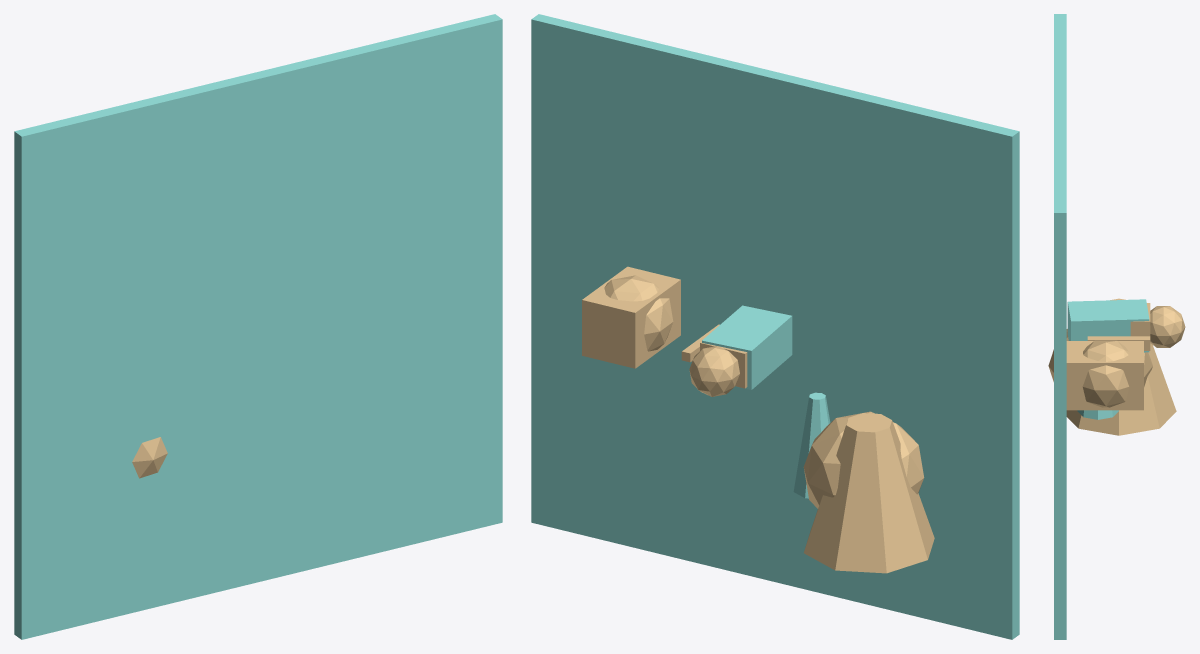
Rendered from wildlands-expedition-kit.glb.
The picture shows the model from 3 angles, left to right: view 1: azimuth 30°, elevation 25°; view 2: azimuth 150°, elevation 25°; view 3: azimuth 270°, elevation 25°; orthographic projection. The views are drawn at different scales.
Parts seen in each view (by area): view 1: ENVIRONMENT_GROUND, PROFILE_ENVIRONMENT_DETAIL; view 2: ENVIRONMENT_GROUND, ENVIRONMENT_LANDMARK, PROFILE_OBSTACLE_DETAIL, PLAYER_BODY, PROFILE_ENVIRONMENT_DETAIL, OBSTACLE, PLAYER_HEAD, PROFILE_ENVIRONMENT_SPIRE; view 3: ENVIRONMENT_GROUND, PROFILE_OBSTACLE_DETAIL, ENVIRONMENT_LANDMARK, PLAYER_BODY, OBSTACLE, PLAYER_HEAD, PROFILE_PLAYER_DETAIL, PLAYER_TOOL, PROFILE_ENVIRONMENT_DETAIL, PROFILE_ENVIRONMENT_SPIRE.
Part boxes in pixels (bbox=[...]): ENVIRONMENT_GROUND: bbox=[14, 14, 502, 639]; PROFILE_ENVIRONMENT_DETAIL: bbox=[132, 437, 167, 478]; ENVIRONMENT_GROUND: bbox=[531, 14, 1019, 639]; ENVIRONMENT_LANDMARK: bbox=[804, 413, 934, 573]; PROFILE_OBSTACLE_DETAIL: bbox=[582, 266, 680, 368]; PLAYER_BODY: bbox=[702, 305, 792, 389]; PROFILE_ENVIRONMENT_DETAIL: bbox=[803, 411, 924, 508]; OBSTACLE: bbox=[604, 275, 673, 351]; PLAYER_HEAD: bbox=[689, 346, 739, 396]; PROFILE_ENVIRONMENT_SPIRE: bbox=[793, 392, 830, 498]; ENVIRONMENT_GROUND: bbox=[1054, 14, 1066, 639]; PROFILE_OBSTACLE_DETAIL: bbox=[1066, 341, 1143, 410]; ENVIRONMENT_LANDMARK: bbox=[1066, 298, 1176, 435]; PLAYER_BODY: bbox=[1067, 299, 1149, 352]; OBSTACLE: bbox=[1082, 340, 1129, 407]; PLAYER_HEAD: bbox=[1150, 306, 1185, 347]; PROFILE_PLAYER_DETAIL: bbox=[1130, 303, 1150, 350]; PLAYER_TOOL: bbox=[1087, 336, 1150, 347]; PROFILE_ENVIRONMENT_DETAIL: bbox=[1048, 329, 1152, 386]; PROFILE_ENVIRONMENT_SPIRE: bbox=[1077, 410, 1118, 419].
Size of what is drawn, in the model's own units: 9 by 9 by 2.62.
